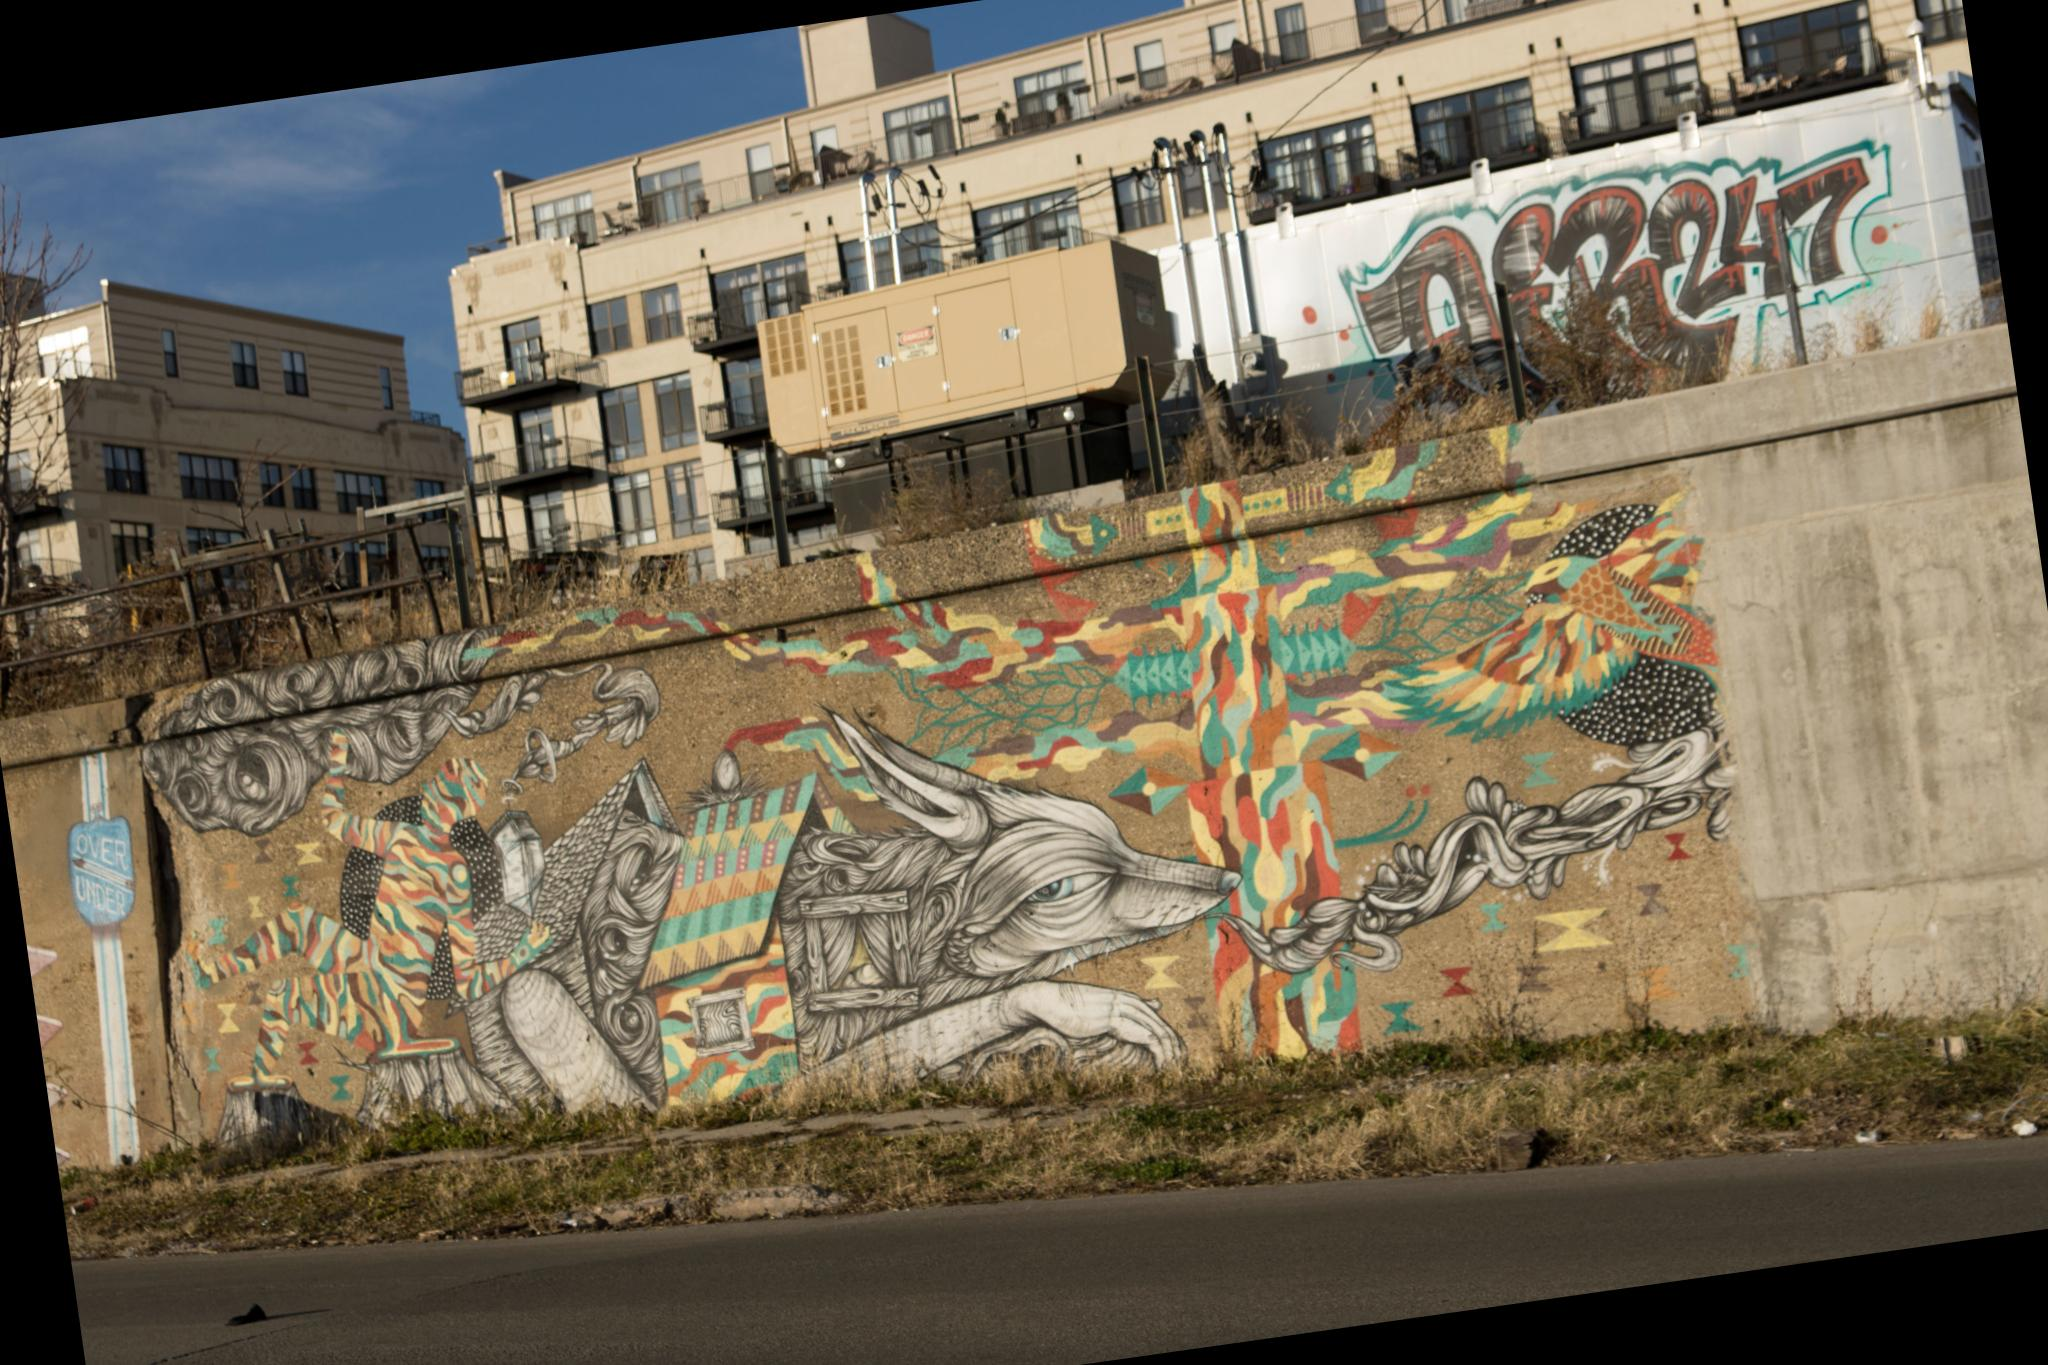graffiti: (139, 463, 1750, 1213), (1311, 120, 1935, 433), (56, 740, 174, 1185), (24, 929, 90, 1185)
